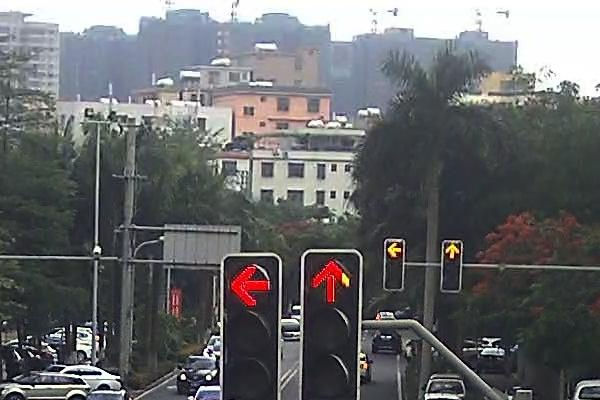redleft: (221, 256, 278, 307), (385, 238, 404, 261)
redstraight: (302, 252, 361, 307), (442, 239, 463, 260)
